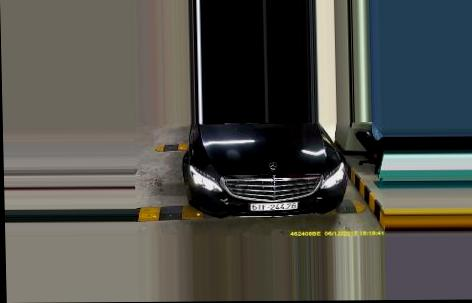License_Plate: (248, 201, 303, 211)
